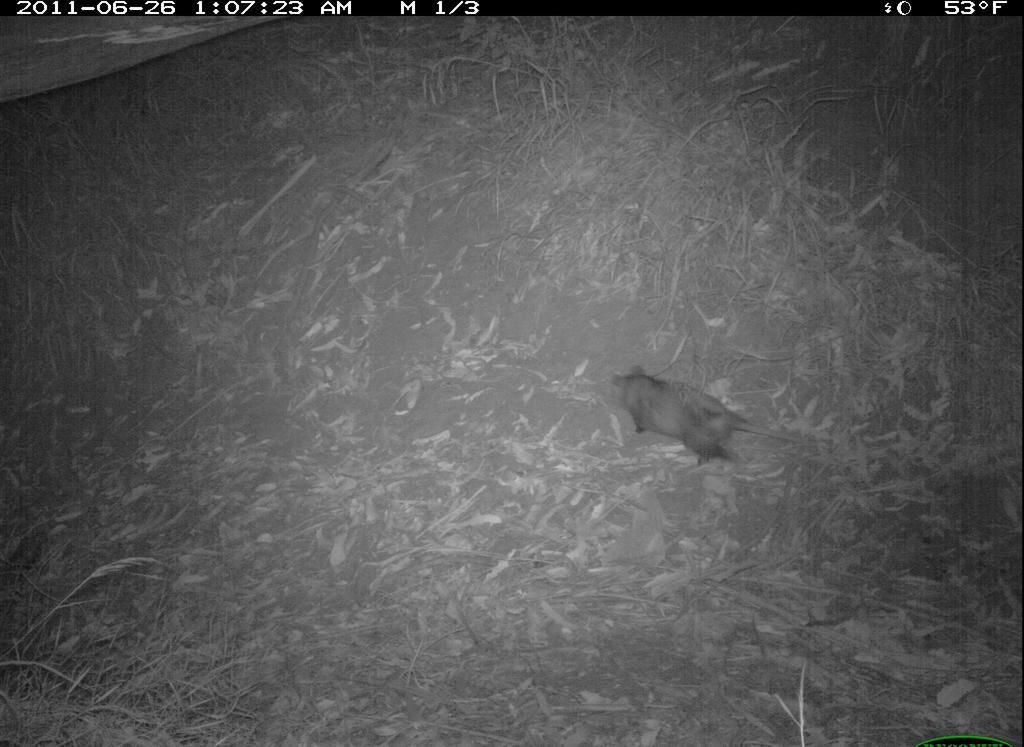opossum: (611, 350, 826, 483)
